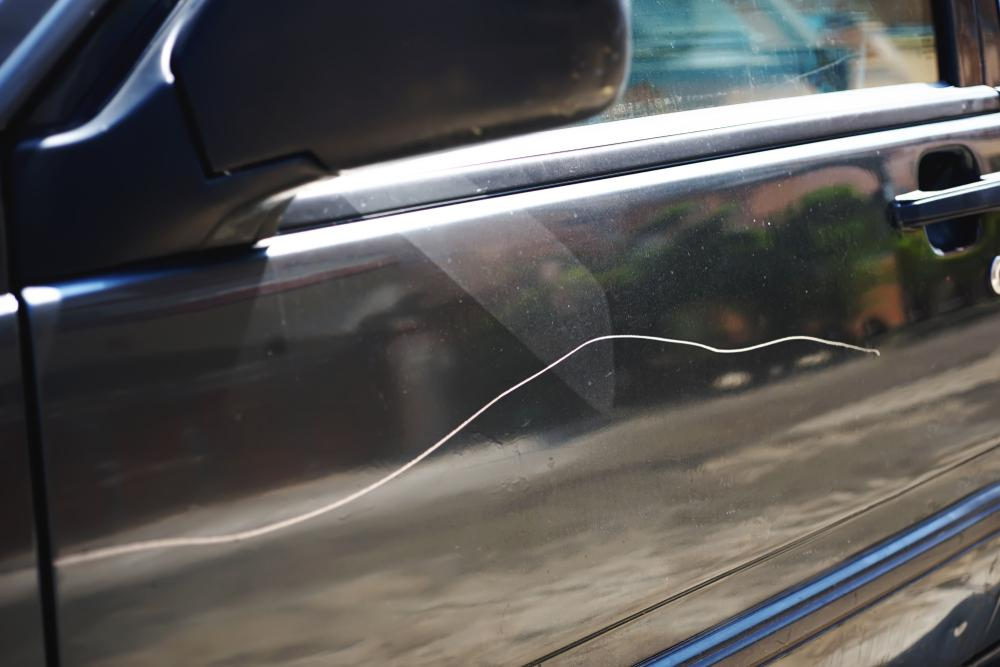scratch: (53, 329, 890, 574)
